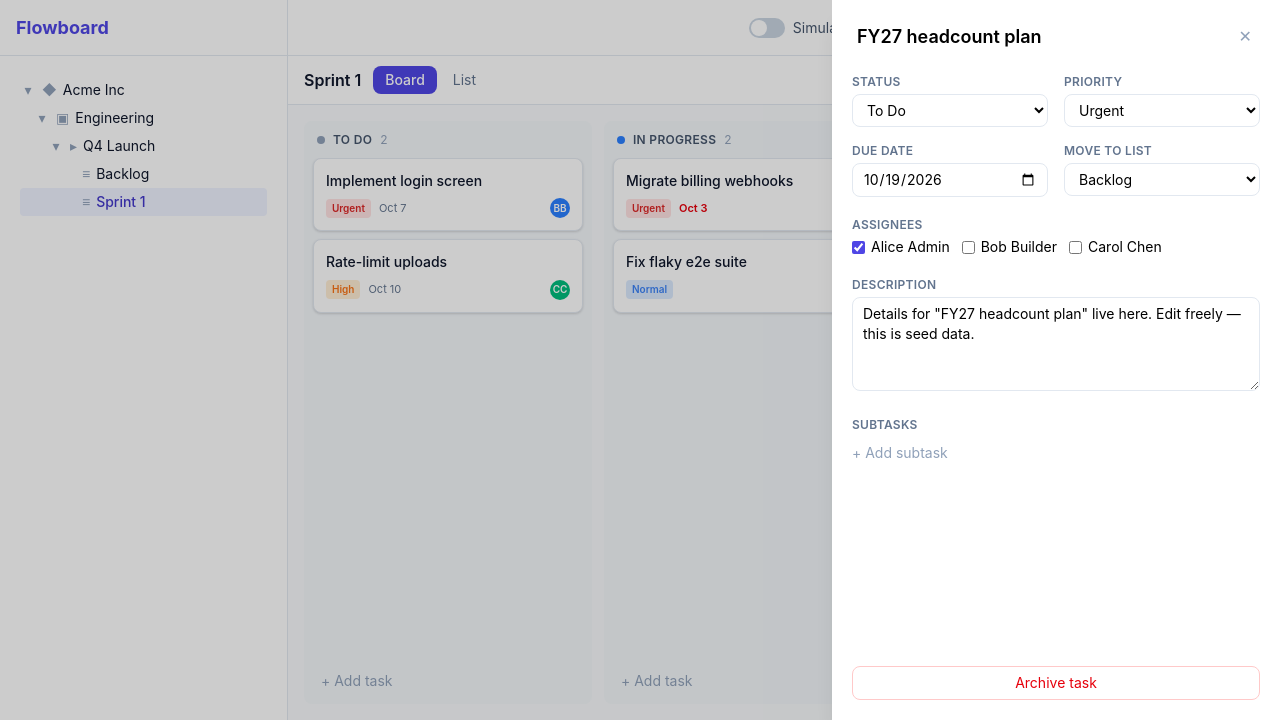
Test: moving to a list the user cannot edit at the source is rejected and toasts an error
Select "Sprint 1" in the dropdown labelled "Move to list" at (1162, 180), box 1064,163 -> 1260,196
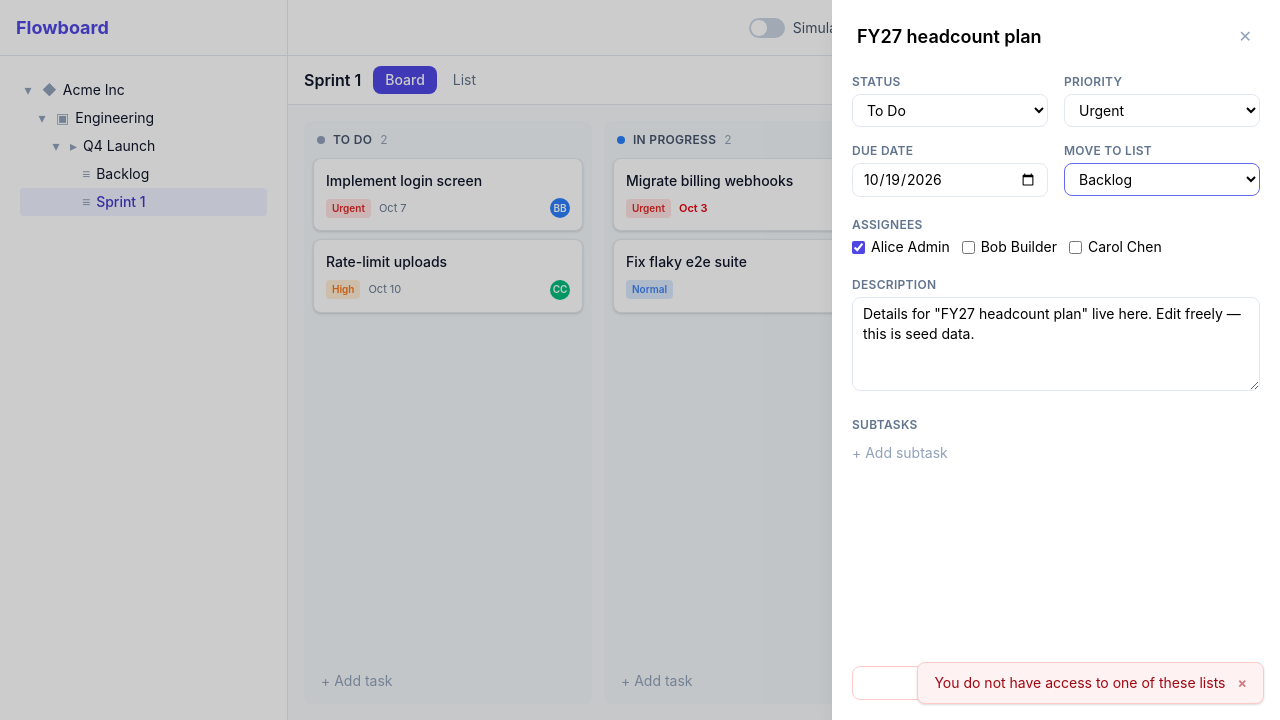
Check: the message shows "You do not have access to one of these lists", box 934,674 -> 1226,691
Click the button named "Dismiss" at (1242, 683), box 1238,673 -> 1247,693
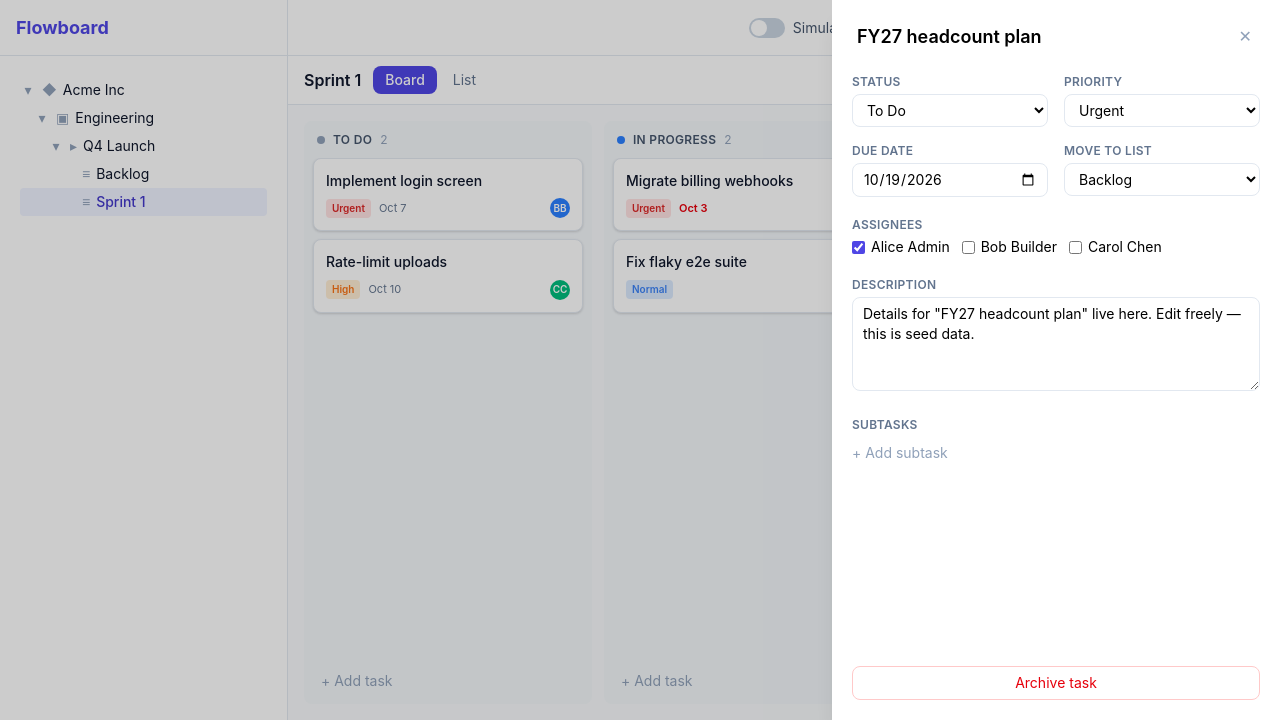
Check: the message "You do not have access to one of these lists ×" is gone
